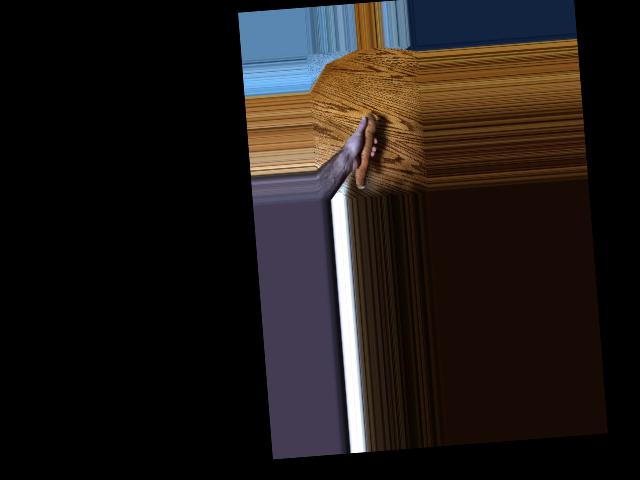sweet_potato: (349, 113, 381, 190)
